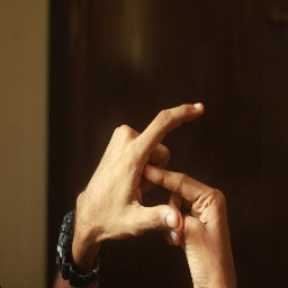E: (126, 90, 213, 247)
